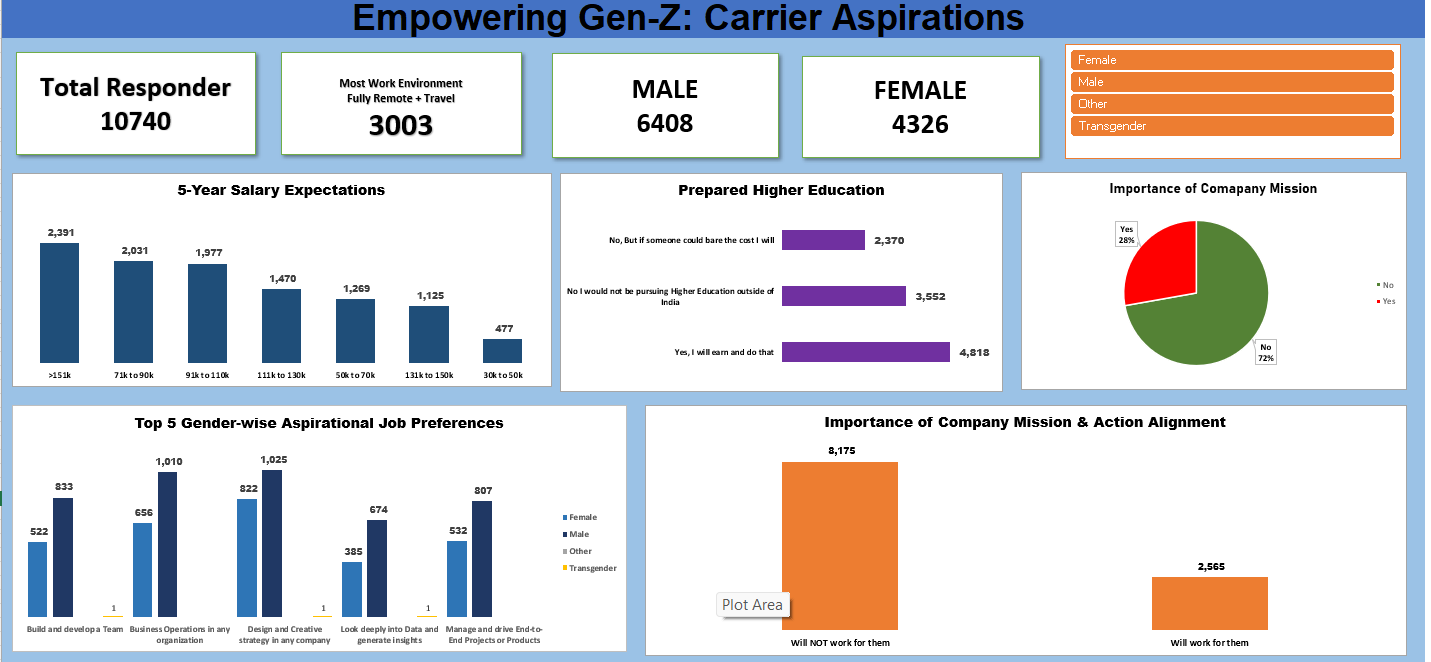

What the dashboard file says about the page in this screenshot:
{"tool":"powerbi","page":{"name":"Mission Aspirations Dashboard","canvas":[1920,1080],"ordinal":1},"visuals":[{"type":"cardVisual","fields":{"Data":["CountNonNull(Cleaned Dataset.Country)"]},"box":[17.7,61,456.5,167.2],"z":0},{"type":"cardVisual","fields":{"Data":["Measure.Total Zip Code"]},"box":[497.8,61,462.4,167.2],"z":1000},{"type":"slicer","fields":{"Values":["Cleaned Dataset.Gender"]},"box":[975.9,61,924.8,167.2],"z":2000},{"type":"pieChart","fields":{"Category":["Cleaned Dataset.Company Mission"],"Y":["CountNonNull(Cleaned Dataset.Company Mission)"]},"box":[17.7,242,627.7,411.2],"z":3000},{"type":"barChart","title":"Gen-Z Career Aspiration Influencing Factors","fields":{"Category":["Cleaned Dataset.Career Aspiration Influencing Factor"],"Y":["CountNonNull(Cleaned Dataset.Career Aspiration Influencing Factor)"]},"box":[663.1,242,604.1,411.2],"z":4000},{"type":"columnChart","title":"Company Mission-Action Alignment","fields":{"Category":["Cleaned Dataset.Company Mission-Action Alignment"],"Y":["CountNonNull(Cleaned Dataset.Company Mission-Action Alignment)"]},"box":[1282.9,242,617.8,411.2],"z":5000},{"type":"barChart","title":"Gen-Z Top 5 Aspirational Job by New Aspirational Job","fields":{"Category":["Cleaned Dataset.New Aspirational Job"],"Y":["CountNonNull(Cleaned Dataset.New Aspirational Job)"]},"box":[17.7,669,1249.4,397.5],"z":6000},{"type":"textbox","box":[1283,669,618,397],"z":7000},{"type":"textbox","box":[17.7,3.9,1883,53.1],"z":7001}]}

Visuals, with their boxes on the page's 1920x1080 design canvas (x1, y1, x2, y2). These are canvas units, not pixel positions in the 1431x662 screenshot, which may show the page scaled, cropped or inside an application window:
cardVisual - CountNonNull(Cleaned Dataset.Country): {"left": 18, "top": 61, "right": 474, "bottom": 228}
cardVisual - Measure.Total Zip Code: {"left": 498, "top": 61, "right": 960, "bottom": 228}
slicer - Cleaned Dataset.Gender: {"left": 976, "top": 61, "right": 1901, "bottom": 228}
pieChart - Cleaned Dataset.Company Mission x CountNonNull(Cleaned Dataset.Company Mission): {"left": 18, "top": 242, "right": 645, "bottom": 653}
"Gen-Z Career Aspiration Influencing Factors" barChart: {"left": 663, "top": 242, "right": 1267, "bottom": 653}
"Company Mission-Action Alignment" columnChart: {"left": 1283, "top": 242, "right": 1901, "bottom": 653}
"Gen-Z Top 5 Aspirational Job by New Aspirational Job" barChart: {"left": 18, "top": 669, "right": 1267, "bottom": 1066}
textbox: {"left": 1283, "top": 669, "right": 1901, "bottom": 1066}
textbox: {"left": 18, "top": 4, "right": 1901, "bottom": 57}
